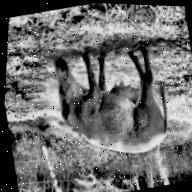boar: (44, 37, 179, 171)
